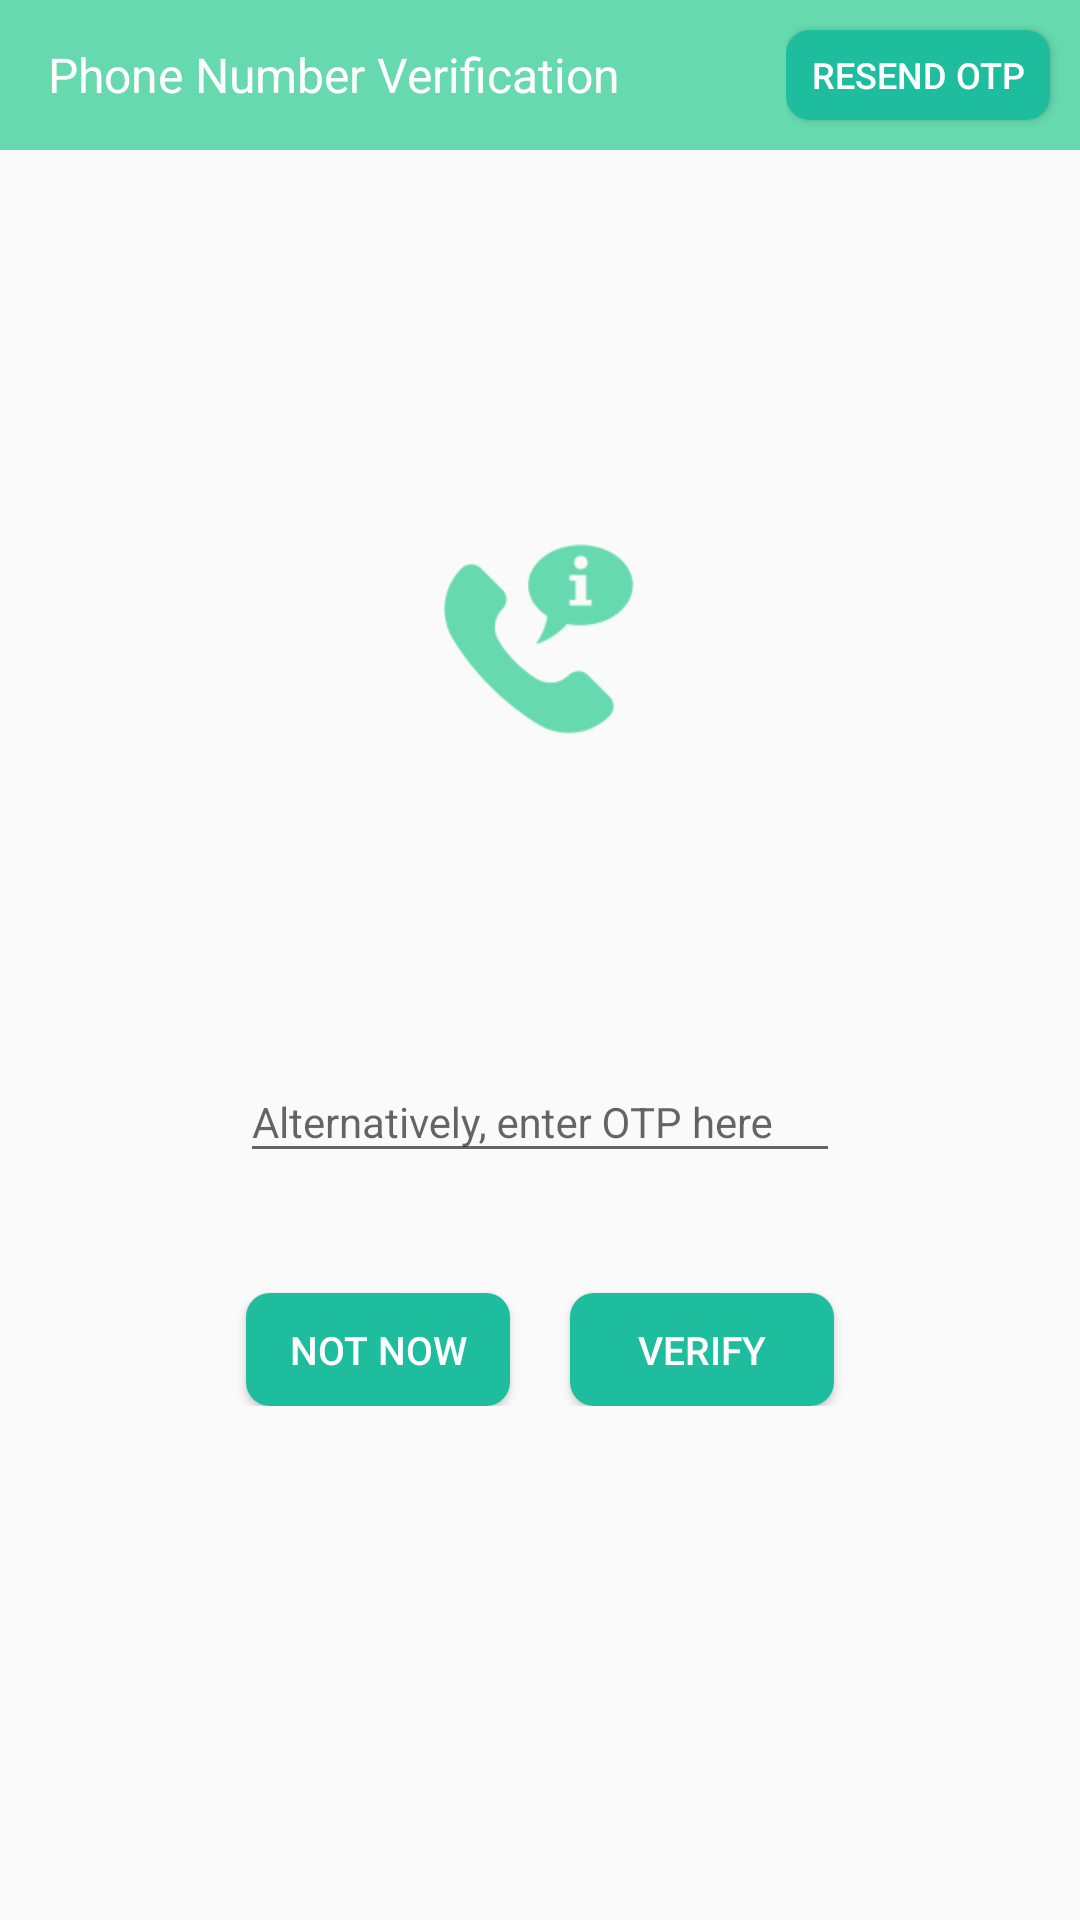

Icons on this 1080×1920 Android screen, each with the point to tap as (x=x, y=y):
otp phone: (x=539, y=639)
